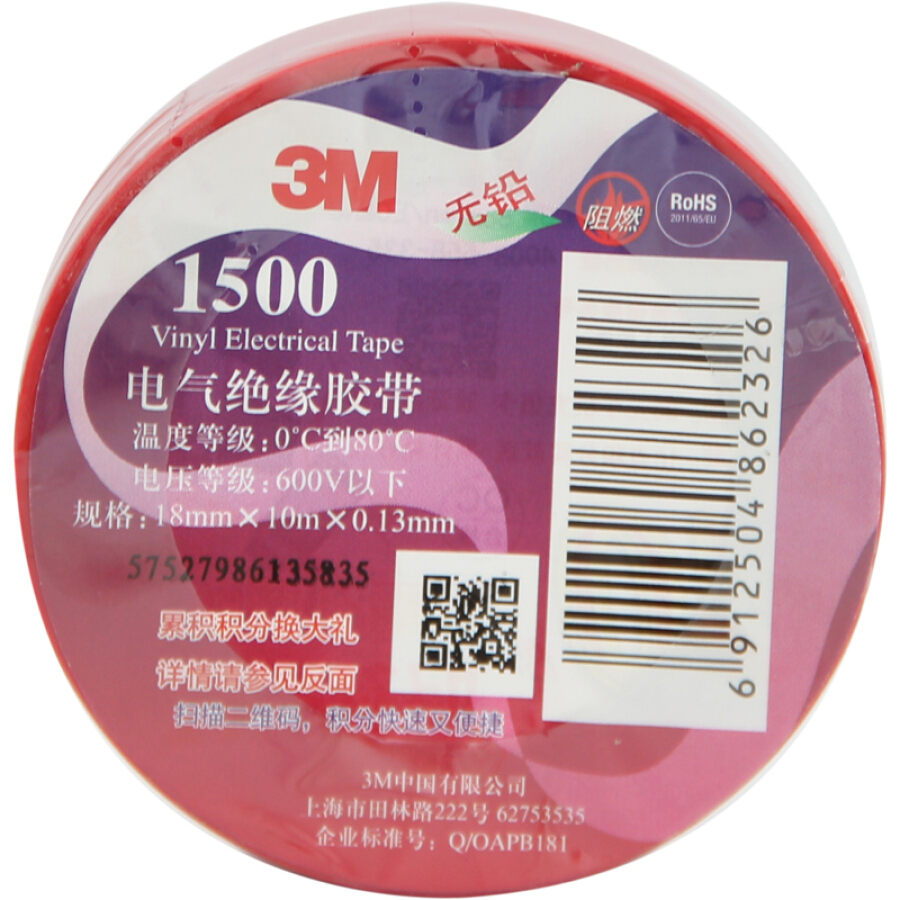3M: (269, 136, 409, 217)
